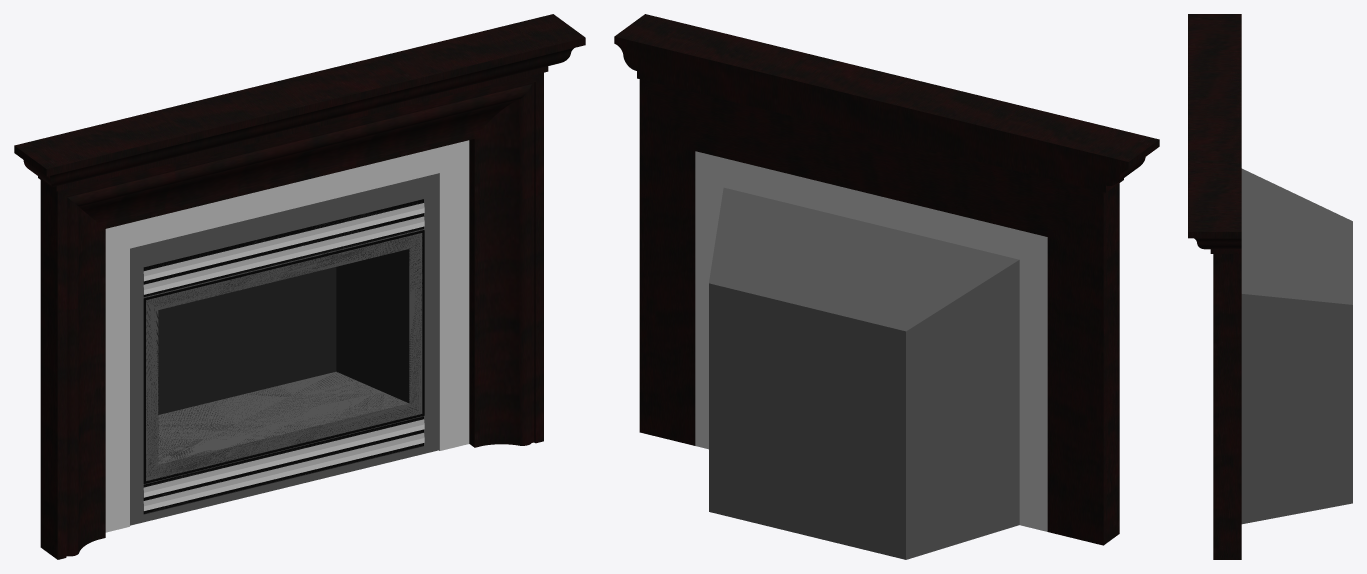
3 renders of one model, left to right at view 1: azimuth 30°, elevation 25°; view 2: azimuth 150°, elevation 25°; view 3: azimuth 270°, elevation 25°, orthographic. The views are drawn at different scales.
Visible parts, largest first — view 1: group_0 (×19), Component_6 (×2), Component_3, Component_5, Component_1 (×4), Component_2; view 2: group_0, Component_3, Component_6 (×2), Component_5, Component_1 (×4), Component_2; view 3: group_0, Component_3, Component_6, Component_1.
Boxes of the visible parts, x1=… form: group_0 (×19): x1=130, y1=173, x2=438, y2=525; Component_6 (×2): x1=40, y1=194, x2=543, y2=559; Component_3: x1=14, y1=14, x2=585, y2=191; Component_5: x1=105, y1=140, x2=469, y2=532; Component_1 (×4): x1=40, y1=72, x2=543, y2=312; Component_2: x1=165, y1=101, x2=425, y2=214; group_0: x1=709, y1=187, x2=1019, y2=559; Component_3: x1=614, y1=14, x2=1159, y2=192; Component_6 (×2): x1=639, y1=197, x2=1119, y2=545; Component_5: x1=695, y1=151, x2=1047, y2=531; Component_1 (×4): x1=639, y1=79, x2=1119, y2=310; Component_2: x1=752, y1=106, x2=990, y2=222; group_0: x1=1241, y1=168, x2=1352, y2=524; Component_3: x1=1188, y1=14, x2=1241, y2=253; Component_6: x1=1213, y1=355, x2=1241, y2=559; Component_1: x1=1213, y1=254, x2=1241, y2=355.
Size of the model in its own units: 73.02 by 23.33 by 52.86.
